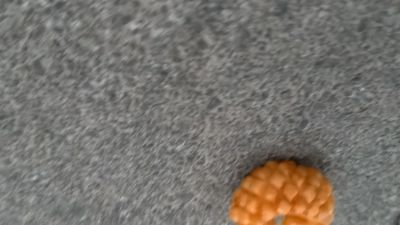eggs: (229, 158, 338, 225)
